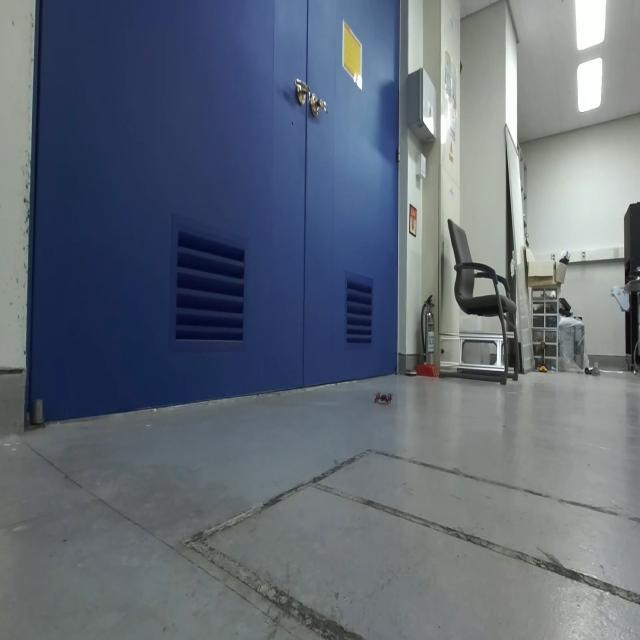crazyflie: (373, 384, 397, 411)
